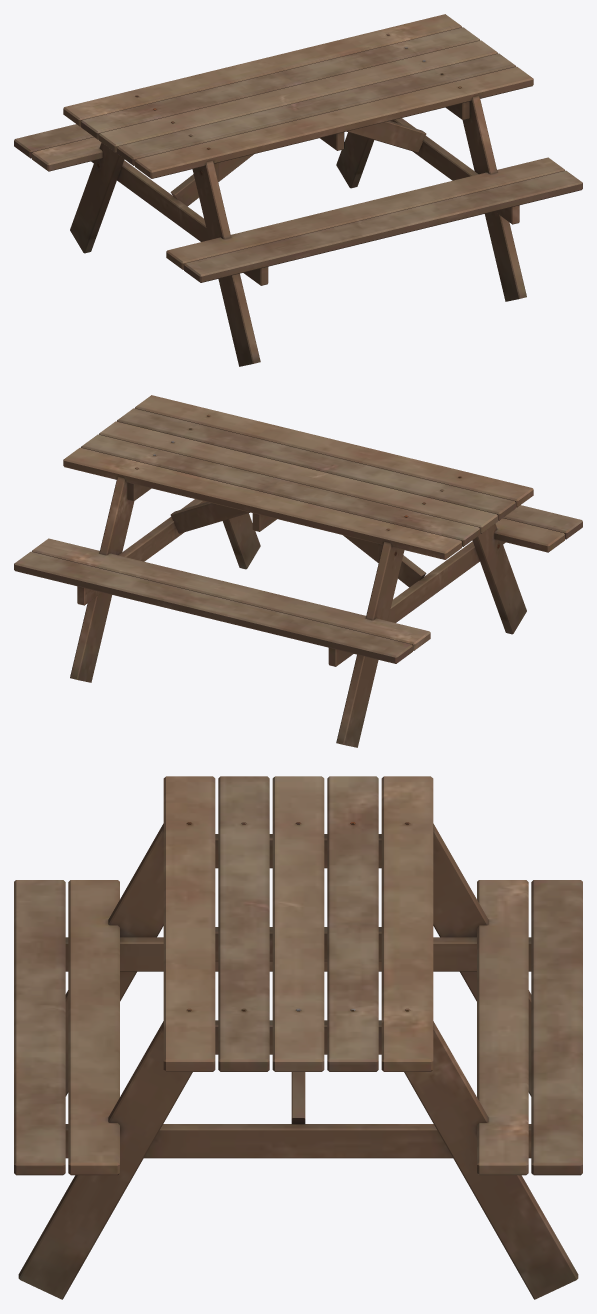
The model's file is picnic_table-low.glb.
The picture shows the model from 3 angles, top to bottom: view 1: azimuth 30°, elevation 25°; view 2: azimuth 150°, elevation 25°; view 3: azimuth 270°, elevation 25°; orthographic projection. The views are drawn at different scales.
Parts seen in each view (by area): view 1: picnic_table; view 2: picnic_table; view 3: picnic_table.
Boxes of the visible parts, x1,y1,x2,y2 form: picnic_table: (14,14,582,366); picnic_table: (14,395,582,747); picnic_table: (14,776,582,1299).
Size of the model in its own units: 1.83 by 0.8465 by 1.55.
Materials: 1 (1 with a texture image).
